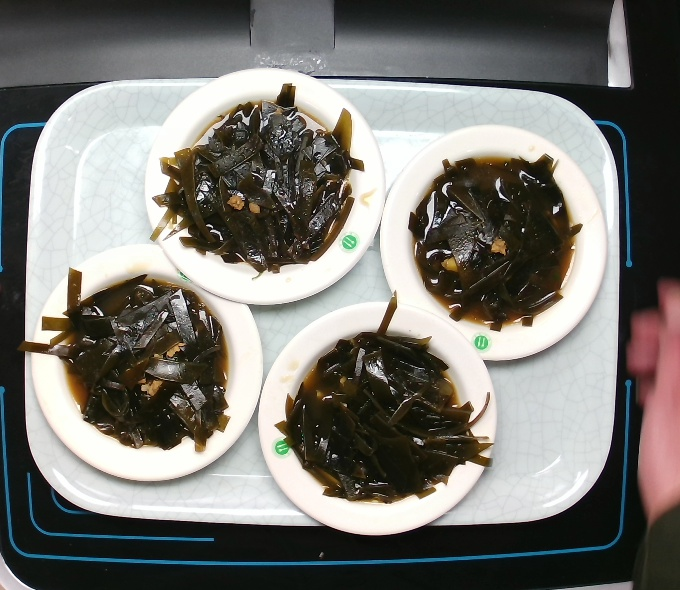wcq-HaiDai: (151, 102, 373, 276), (279, 334, 491, 507), (404, 153, 588, 326), (57, 283, 245, 452)
